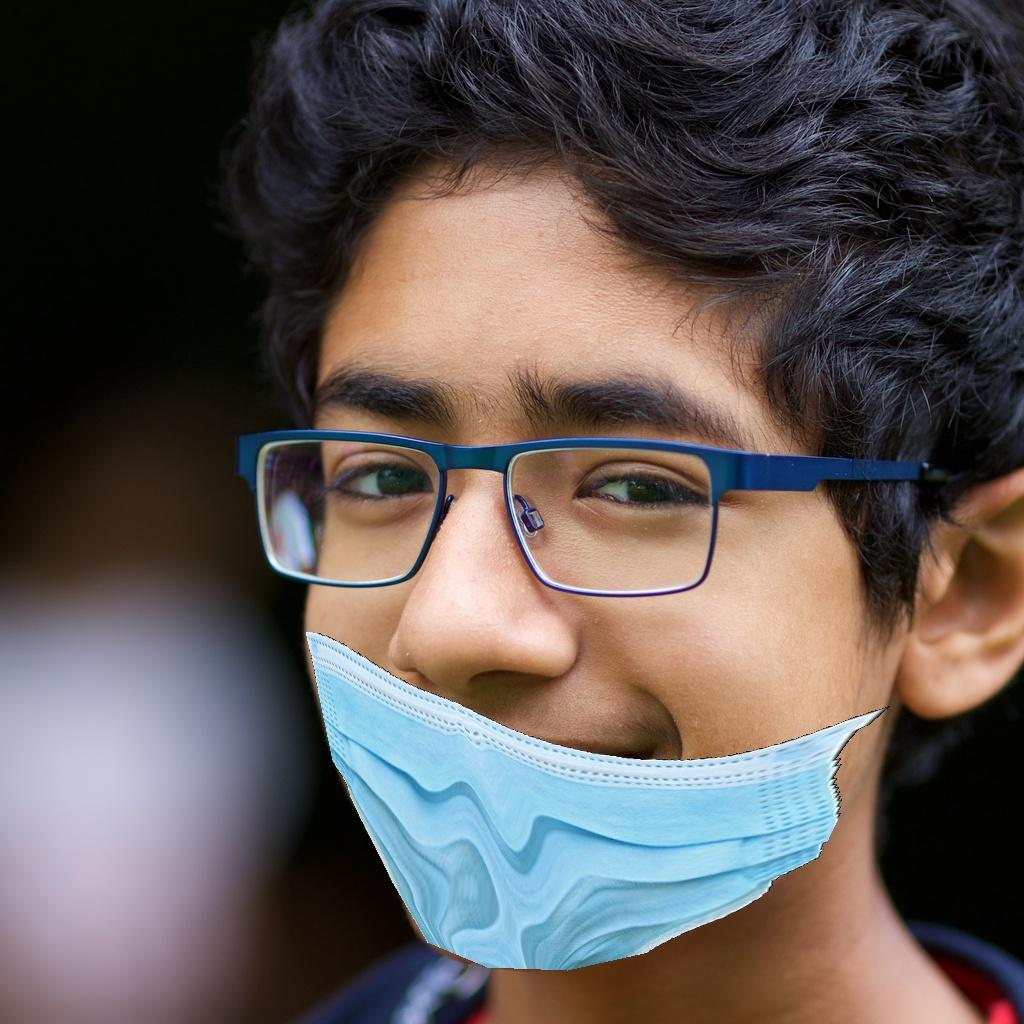Máscara Incorreta: (239, 235, 897, 920)
